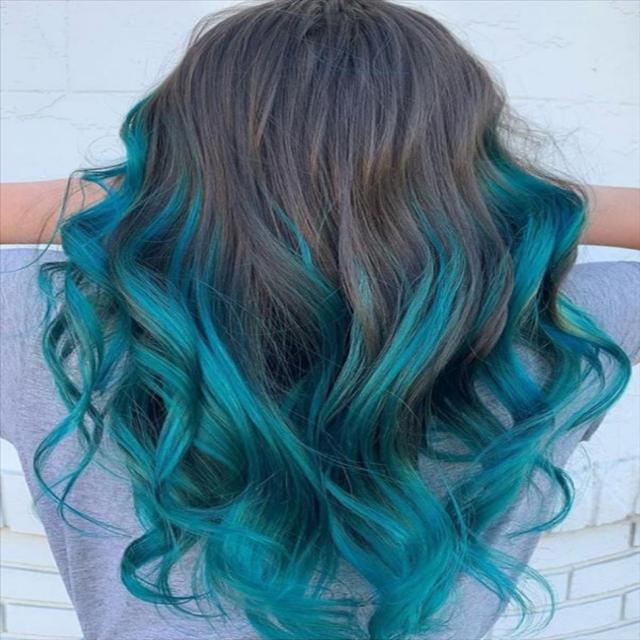Nonhelmet: (80, 0, 578, 332)
